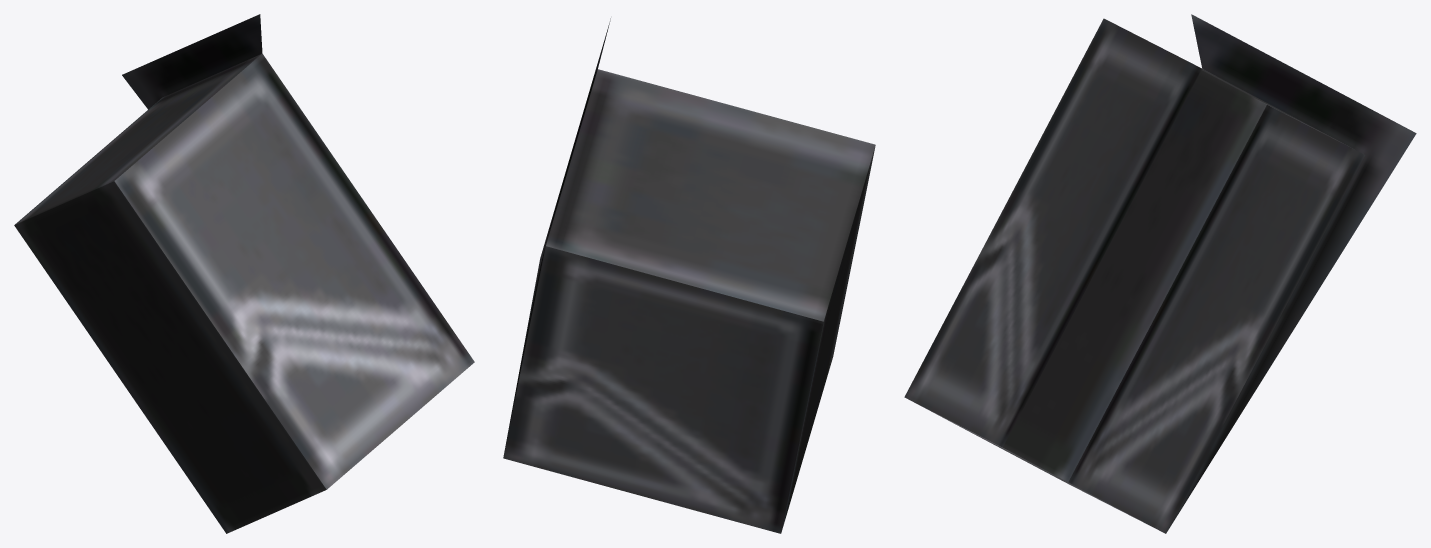
3 views of the same model, side by side, from view 1: azimuth 30°, elevation 25°; view 2: azimuth 150°, elevation 25°; view 3: azimuth 270°, elevation 25° (orthographic). The views are drawn at different scales.
Visible parts, largest first — view 1: Las charge cells | extracted from lasgun; view 2: Las charge cells | extracted from lasgun; view 3: Las charge cells | extracted from lasgun.
Boxes of the visible parts, left/top/right/bottom form: Las charge cells | extracted from lasgun: left=14, top=14, right=474, bottom=533; Las charge cells | extracted from lasgun: left=503, top=18, right=875, bottom=533; Las charge cells | extracted from lasgun: left=904, top=14, right=1416, bottom=533.
Bounding box in the file's own units: 1.22 × 1.55 × 1.39.
Materials: 1 (1 with a texture image).
